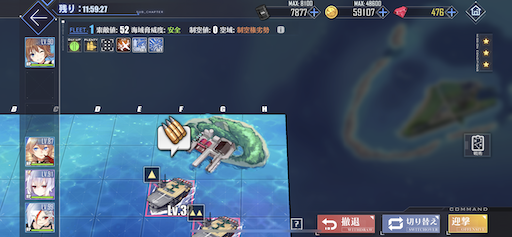lv1: (142, 163, 189, 215)
lv2: (184, 203, 243, 236)
